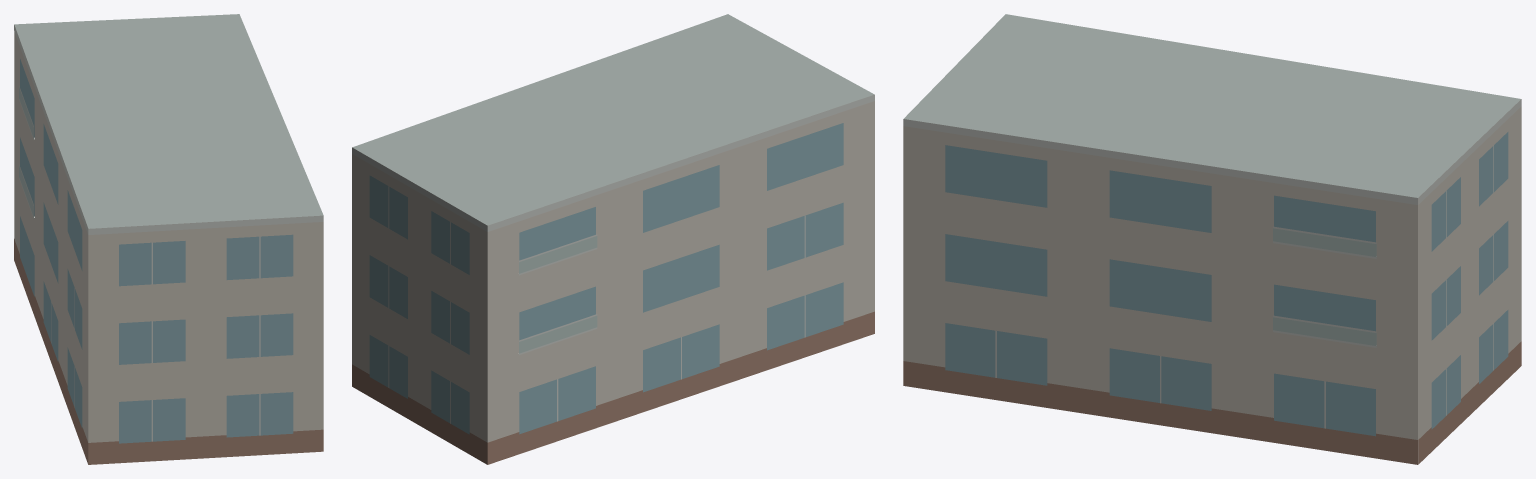
The model's file is survey-upis-32711085.glb.
3 renders of one model, left to right at view 1: azimuth 30°, elevation 25°; view 2: azimuth 150°, elevation 25°; view 3: azimuth 270°, elevation 25°, orthographic. The views are drawn at different scales.
Visible parts, largest first — view 1: survey-upis-32711085.tmp; view 2: survey-upis-32711085.tmp; view 3: survey-upis-32711085.tmp.
Part boxes in pixels (x1,y1,x2,y2): survey-upis-32711085.tmp: [14, 14, 323, 464]; survey-upis-32711085.tmp: [352, 14, 874, 464]; survey-upis-32711085.tmp: [903, 14, 1521, 464].
Size of the model in its own units: 13.54 by 9.15 by 19.22.
